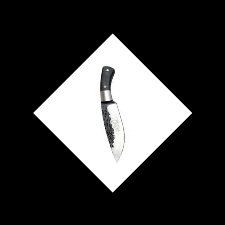k1: (98, 94, 127, 163)
